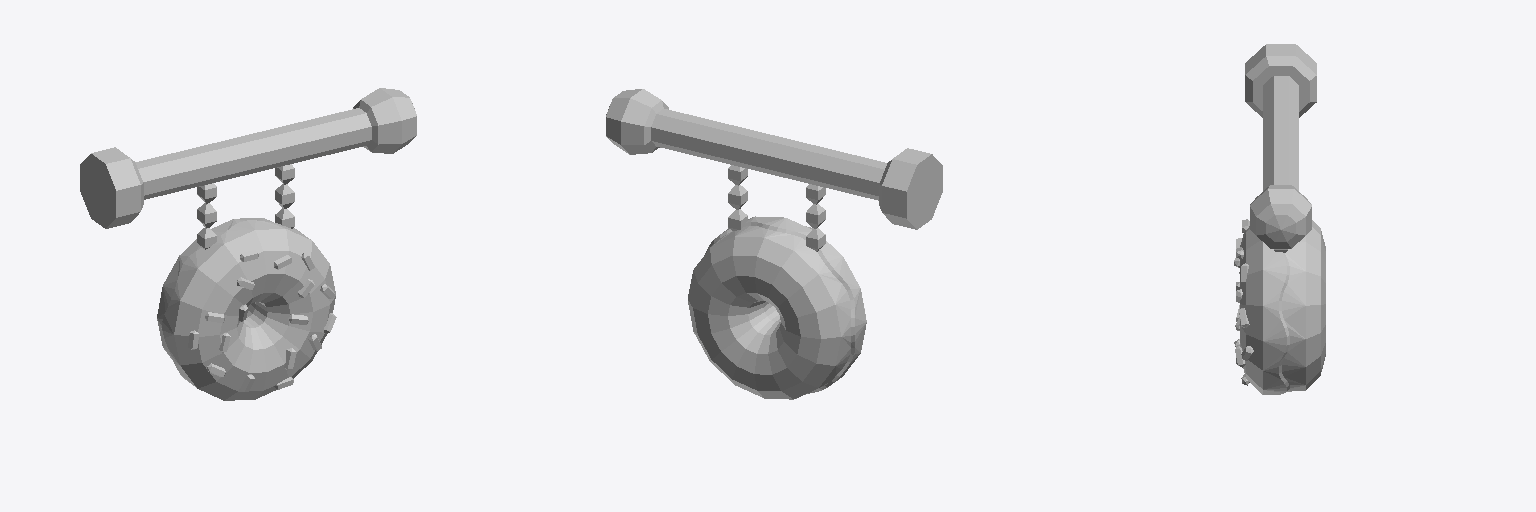
Rendered from sign_wall_donut.obj.
The picture shows the model from 3 angles: view 1: azimuth 30°, elevation 25°; view 2: azimuth 150°, elevation 25°; view 3: azimuth 270°, elevation 25°; orthographic projection.
Parts seen in each view (by area): view 1: sign_wall_donut; view 2: sign_wall_donut; view 3: sign_wall_donut.
Boxes of the visible parts, <box> form: sign_wall_donut: <box>80,88,416,400</box>; sign_wall_donut: <box>606,89,942,399</box>; sign_wall_donut: <box>1234,44,1325,394</box>.
Size of the model in its own units: 2.02 by 1.66 by 0.5118.